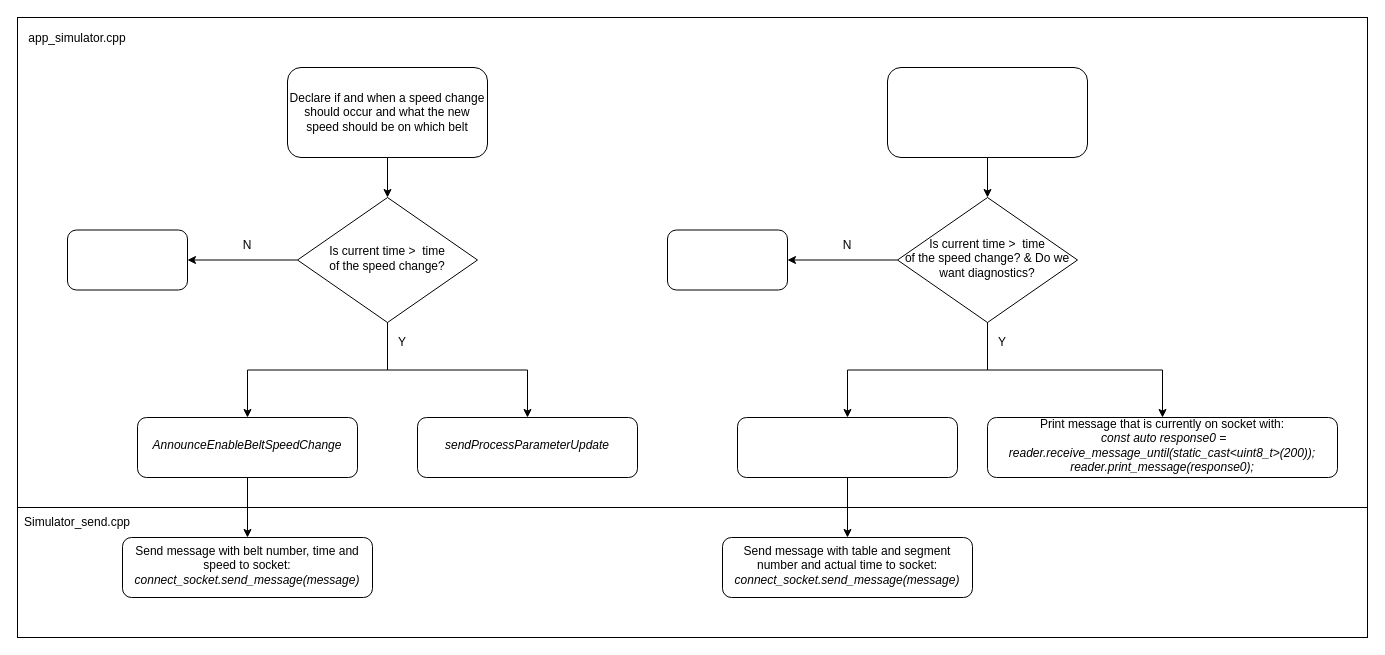
The diagram is 1385 pixels wide and 655 high, and some of its shapes have lost their labels. Each missing label, with the box of its shape:
Declare if you want diagnostics: (886, 66, 1088, 158)
No diagnostics: (666, 229, 788, 290)
No speed change: (66, 229, 188, 290)
sendDiagnostics_Request: (736, 416, 958, 478)
